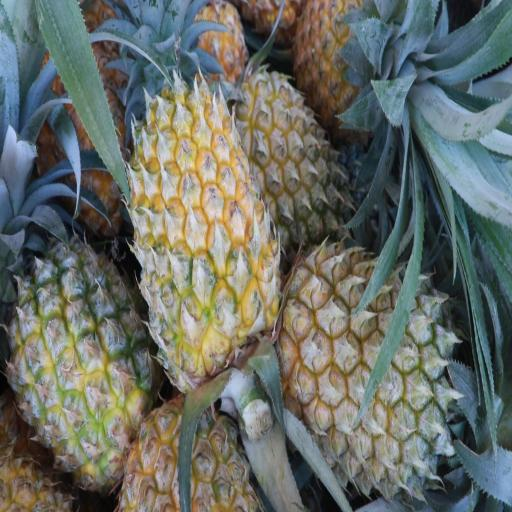------------------------------: (111, 395, 250, 512)
Pineapple - v8 v1: (123, 76, 272, 373), (17, 234, 154, 478), (298, 0, 393, 131)
